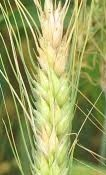Wheat scab: (19, 1, 80, 173)
